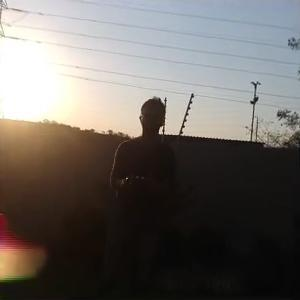follow: (107, 92, 179, 298)
